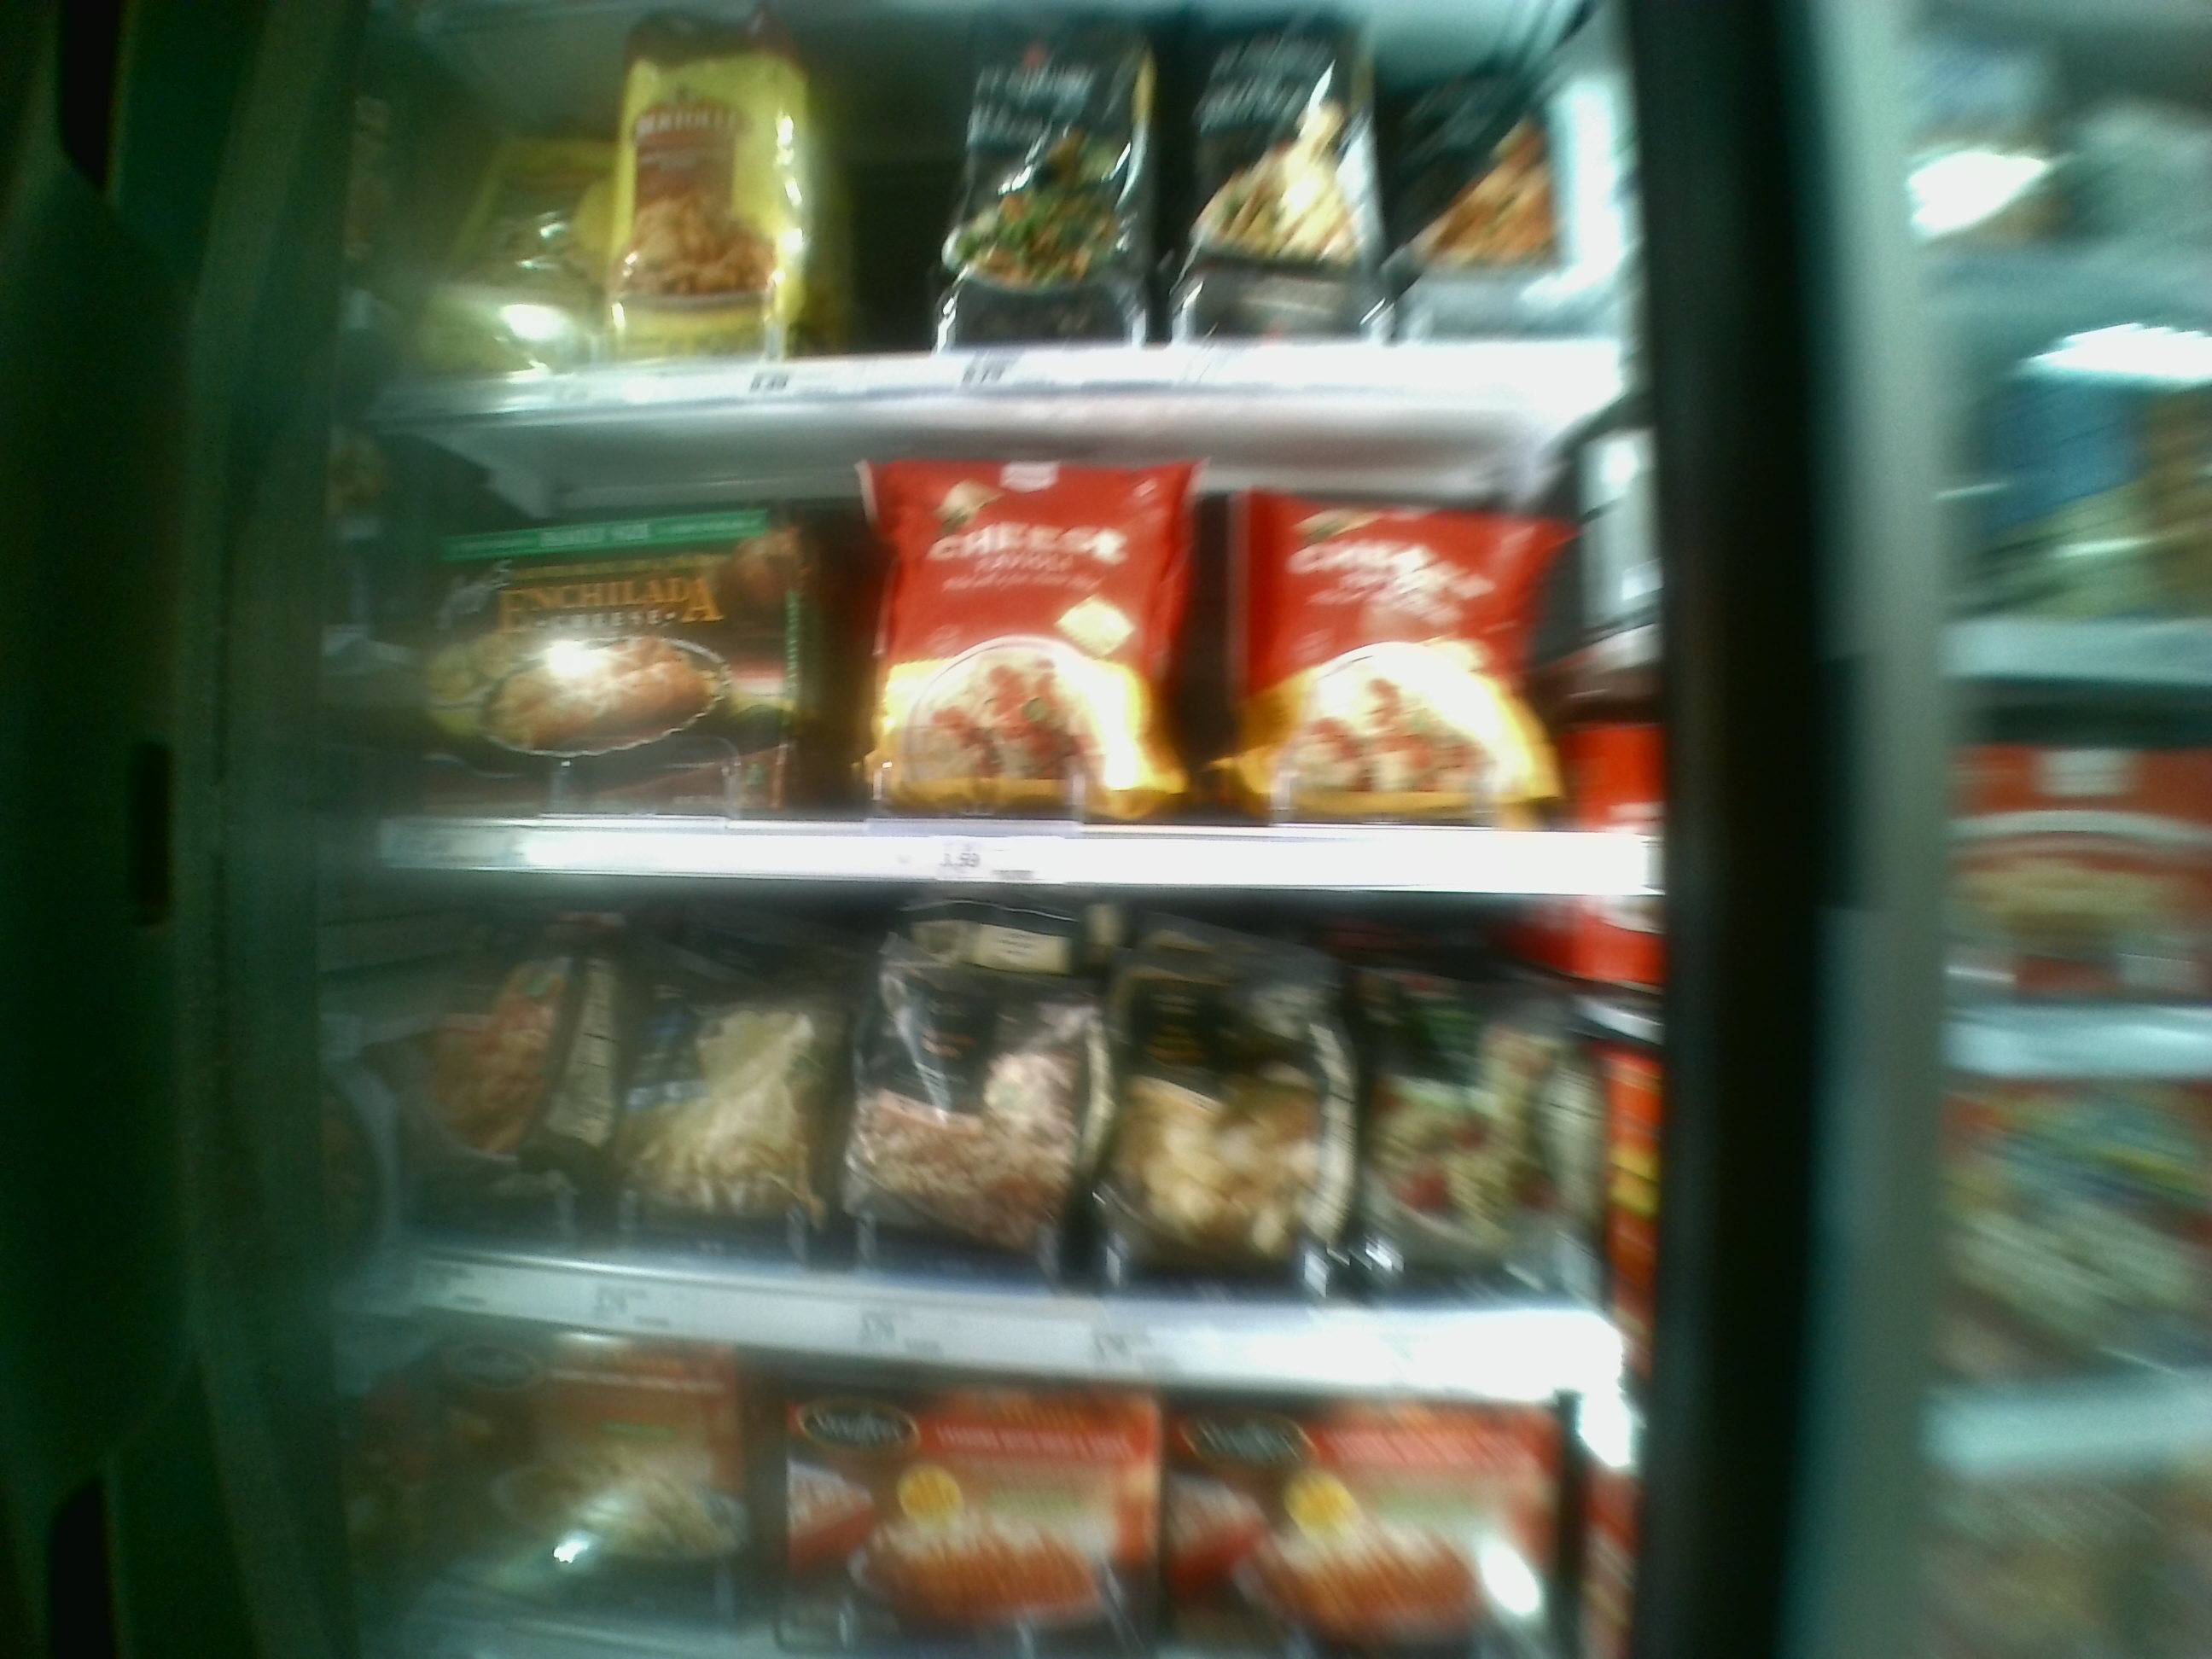shelf: (366, 871, 1655, 1410), (366, 404, 1653, 878)
